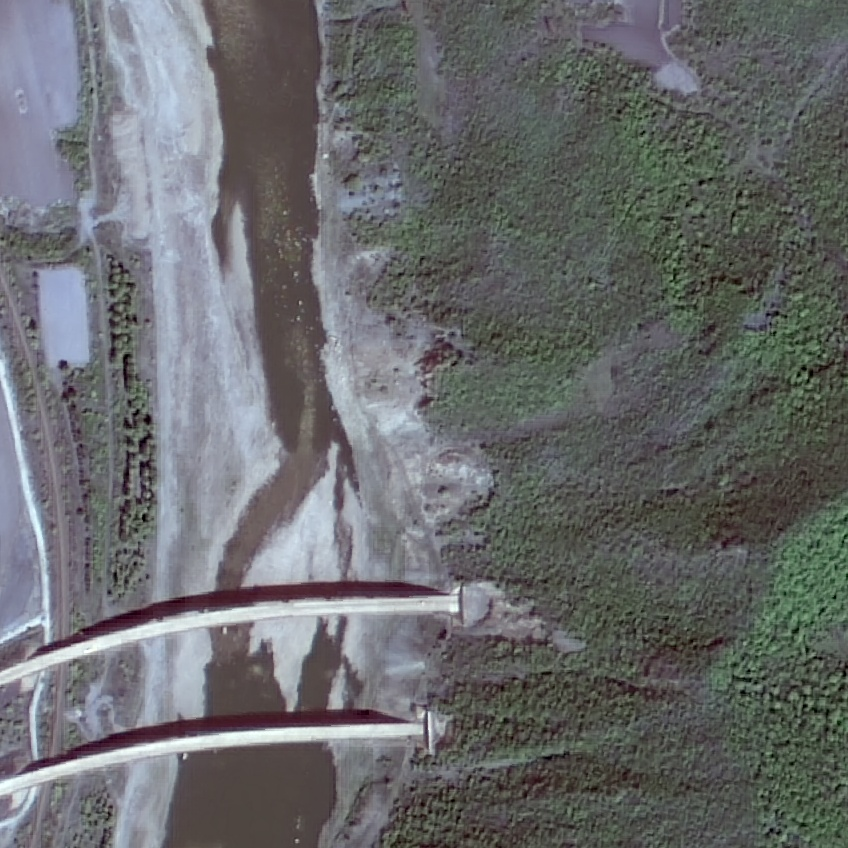slope: (327, 231, 498, 547), (453, 580, 589, 642), (649, 60, 698, 99)
